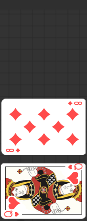10D: (4, 147, 21, 154)
